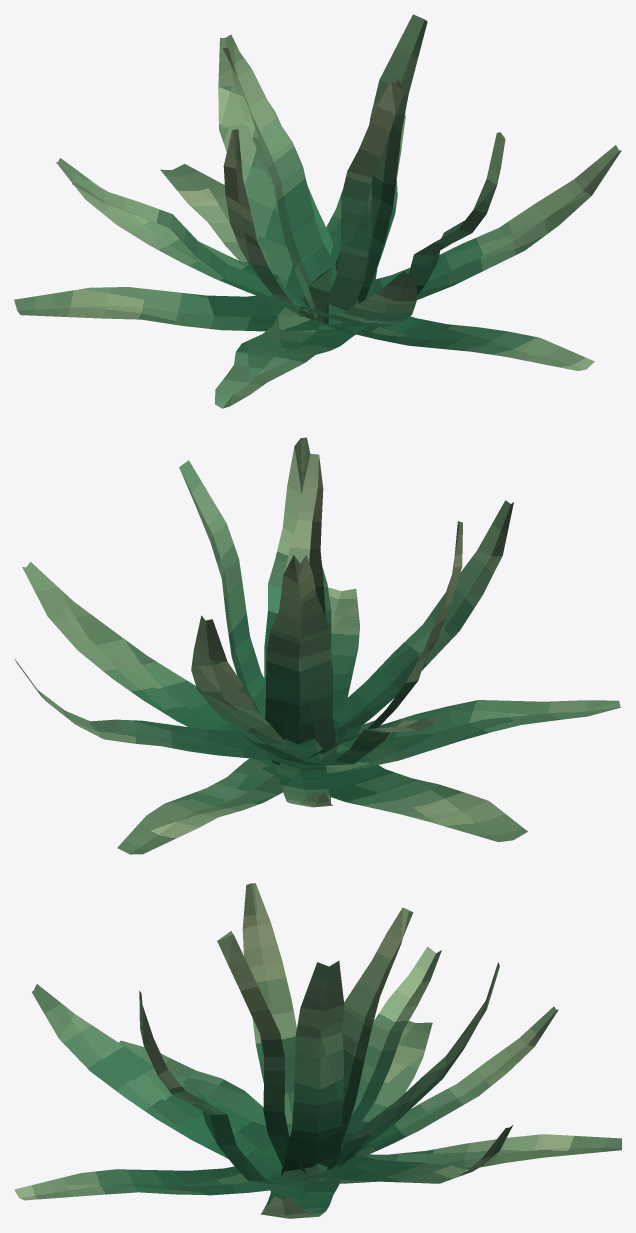
The model's file is Agave.gltf.
The picture shows the model from 3 angles, top to bottom: view 1: azimuth 30°, elevation 25°; view 2: azimuth 150°, elevation 25°; view 3: azimuth 270°, elevation 25°; orthographic projection. The views are drawn at different scales.
Visible parts, largest first — view 1: Leaf (×15), Stem; view 2: Leaf (×15), Stem; view 3: Leaf (×15), Stem.
Boxes of the visible parts, box(x1,y1,x2,y2) form: Leaf (×15): box(14, 14, 621, 408); Stem: box(298, 268, 359, 324); Leaf (×15): box(14, 437, 621, 854); Stem: box(271, 738, 323, 767); Leaf (×15): box(14, 883, 621, 1218); Stem: box(281, 1161, 339, 1181).
Size of the model in its own units: 1.09 by 0.5219 by 1.09.
1 material, 1 textured.
